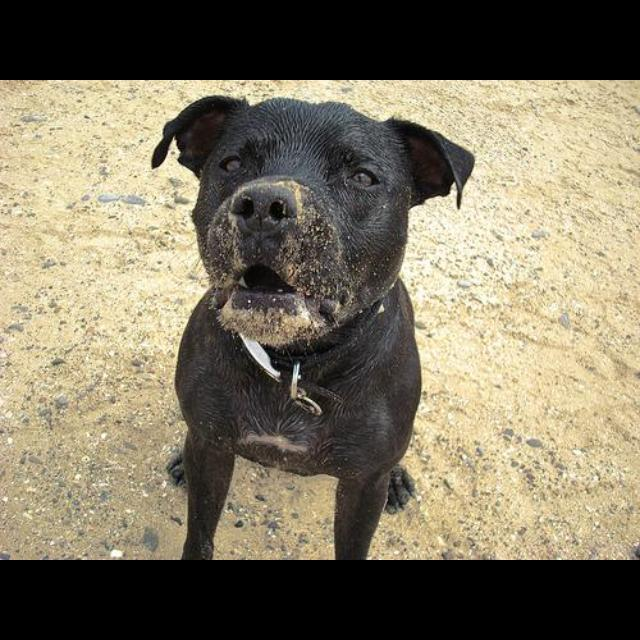amstaff: (152, 95, 475, 560)
